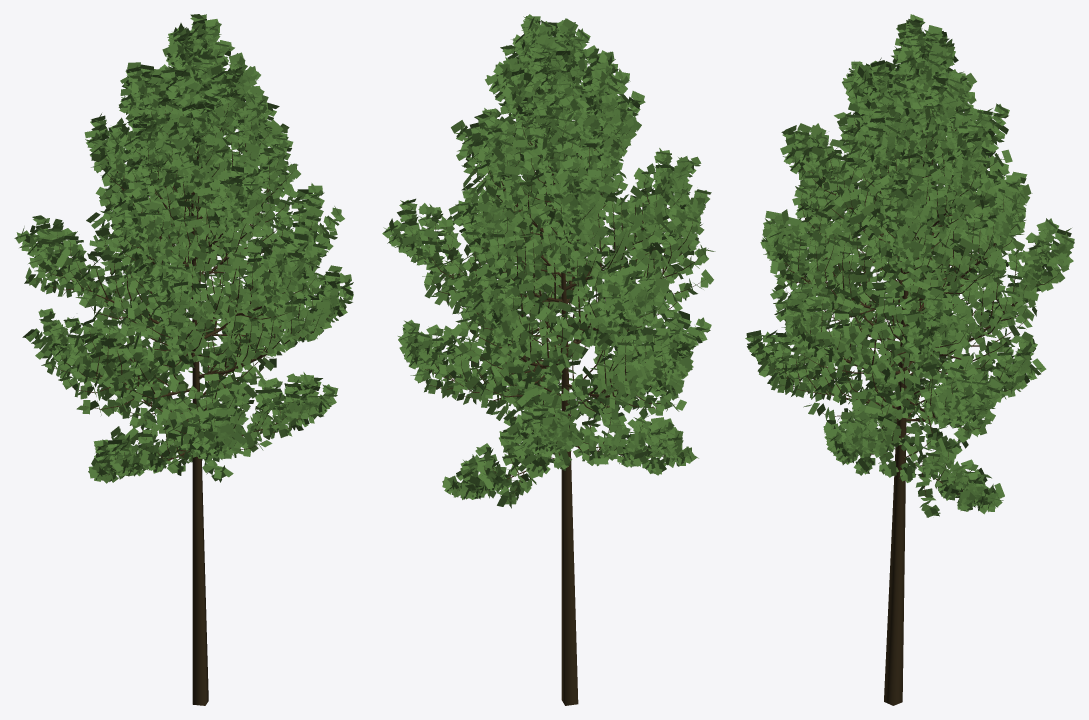
Rendered from tree.fbx.
3 views of the same model, side by side, from view 1: azimuth 30°, elevation 25°; view 2: azimuth 150°, elevation 25°; view 3: azimuth 270°, elevation 25° (orthographic). The views are drawn at different scales.
Visible parts, largest first — view 1: leaves, tree; view 2: leaves, tree; view 3: leaves, tree.
Part boxes in pixels (box(x1,y1,x2,y2)): leaves: box(14, 14, 353, 483); tree: box(32, 40, 342, 705); leaves: box(382, 14, 715, 508); tree: box(407, 55, 708, 705); leaves: box(745, 14, 1074, 517); tree: box(762, 68, 1059, 705).
Bounding box in the file's own units: 8.29 × 17.58 × 7.67.
